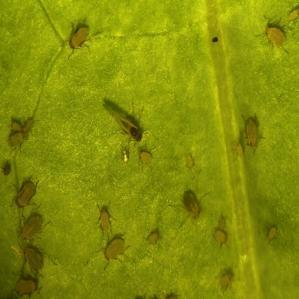Green peach aphid: (90, 90, 155, 143), (228, 111, 276, 167), (88, 224, 135, 269), (57, 19, 104, 59), (174, 180, 214, 225), (256, 16, 293, 63), (208, 257, 246, 296), (204, 211, 240, 251), (138, 216, 173, 256), (16, 238, 54, 274), (4, 114, 37, 154), (11, 209, 48, 244), (13, 174, 46, 213), (256, 216, 287, 254), (95, 201, 122, 235), (10, 274, 44, 299), (127, 146, 159, 170), (0, 154, 21, 179)
